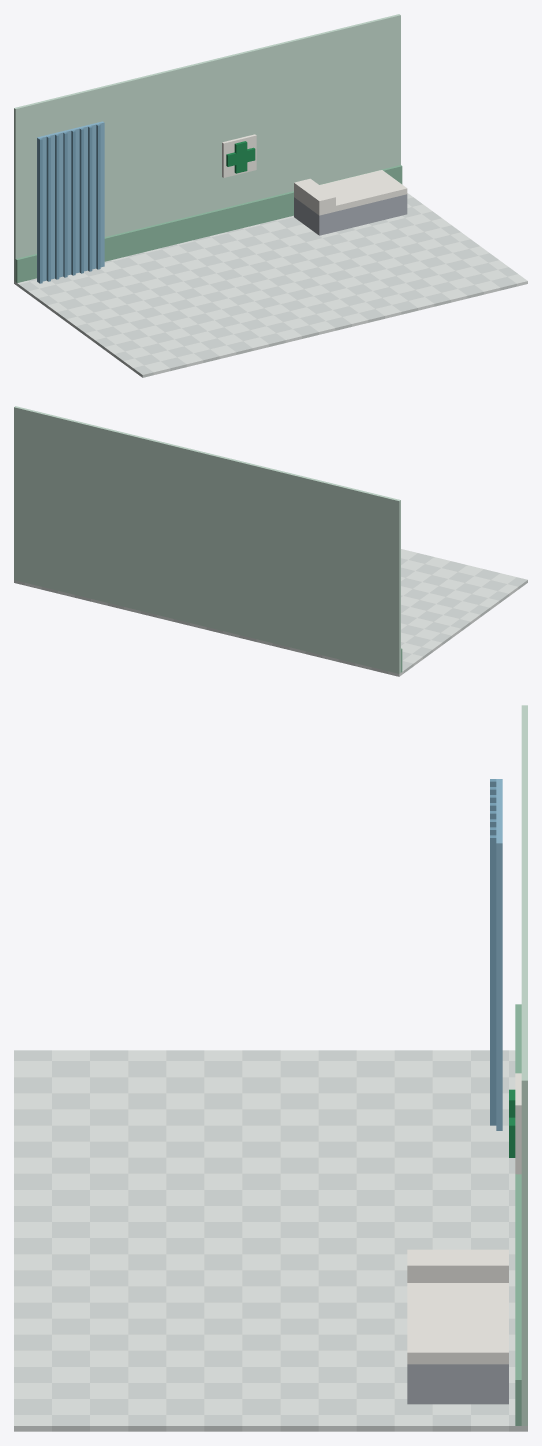
File: hospital.glb
The picture shows the model from 3 angles, top to bottom: view 1: azimuth 30°, elevation 25°; view 2: azimuth 150°, elevation 25°; view 3: azimuth 270°, elevation 25°; orthographic projection. The views are drawn at different scales.
Visible parts, largest first — view 1: hospital; view 2: hospital; view 3: hospital.
Part boxes in pixels (x1,y1,x2,y2): hospital: (14,14,527,377); hospital: (14,406,527,676); hospital: (14,705,527,1431).
Bounding box in the file's own units: 14 × 6.1 × 8.1.
Materials: 1 (1 with a texture image).
